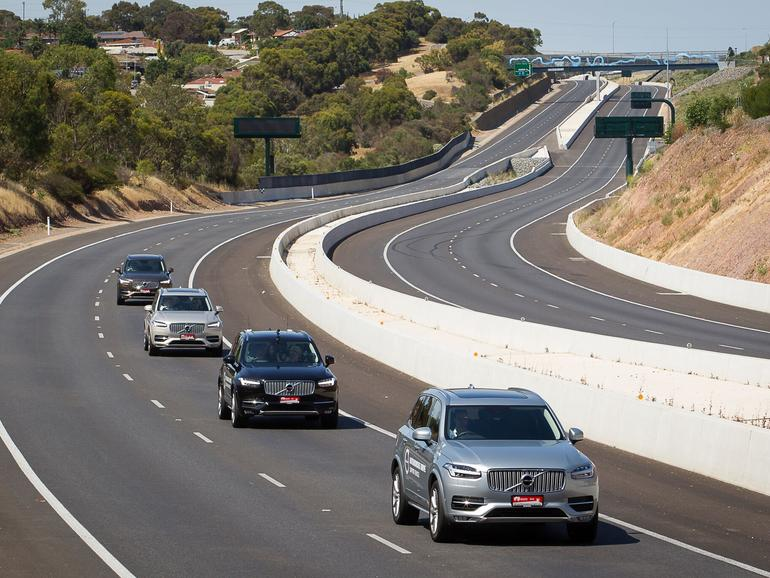car: (389, 378, 603, 541), (214, 328, 341, 429), (144, 287, 222, 358), (116, 247, 173, 302)
